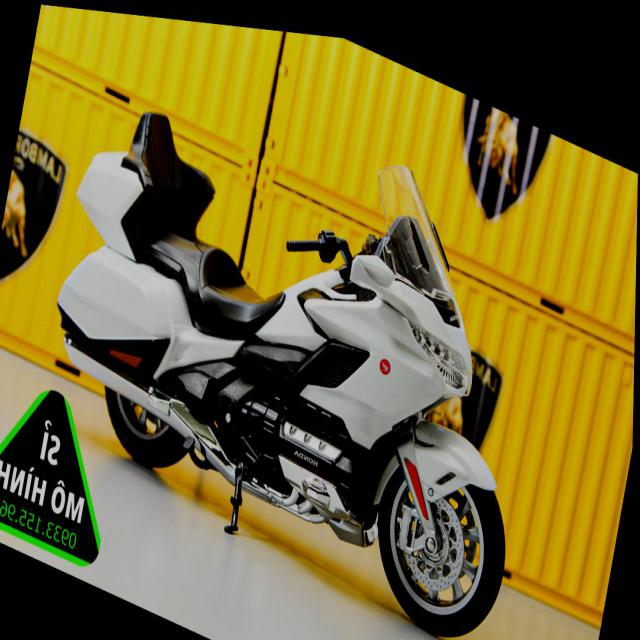Gold Wing: (28, 16, 566, 639)
